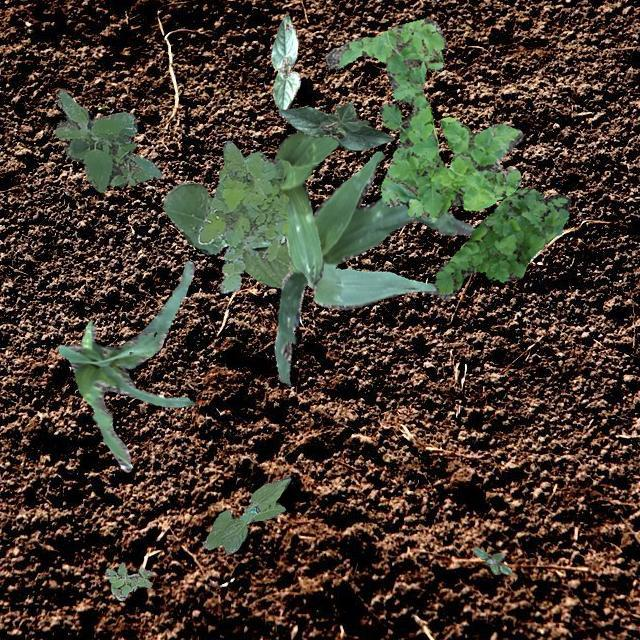crop: (274, 150, 474, 386), (58, 260, 194, 470), (248, 130, 338, 284), (162, 180, 288, 288), (202, 474, 290, 552), (276, 102, 392, 150), (270, 13, 300, 108), (210, 234, 284, 250)
weed: (324, 18, 522, 220), (434, 186, 570, 298), (198, 140, 288, 292), (52, 88, 160, 190), (104, 562, 150, 600), (472, 546, 511, 574)
